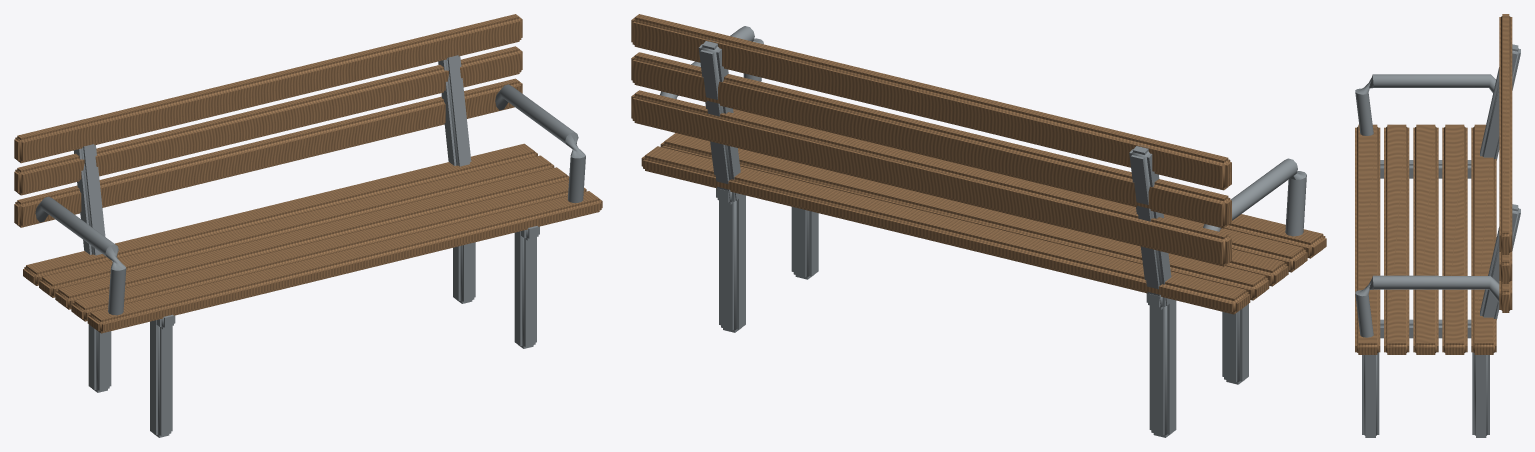
The model's file is PublicBenchBack.glb.
The picture shows the model from 3 angles, left to right: view 1: azimuth 30°, elevation 25°; view 2: azimuth 150°, elevation 25°; view 3: azimuth 270°, elevation 25°; orthographic projection. The views are drawn at different scales.
Visible parts, largest first — view 1: ST_PublicBenchBack_PBK_Indochine_wood.001, ST_PublicBenchBack_PBK_Indochine_metal.001; view 2: ST_PublicBenchBack_PBK_Indochine_wood.001, ST_PublicBenchBack_PBK_Indochine_metal.001; view 3: ST_PublicBenchBack_PBK_Indochine_wood.001, ST_PublicBenchBack_PBK_Indochine_metal.001.
Part boxes in pixels (bbox=[...]): ST_PublicBenchBack_PBK_Indochine_wood.001: bbox=[14, 14, 602, 333]; ST_PublicBenchBack_PBK_Indochine_metal.001: bbox=[35, 30, 585, 437]; ST_PublicBenchBack_PBK_Indochine_wood.001: bbox=[631, 14, 1326, 314]; ST_PublicBenchBack_PBK_Indochine_metal.001: bbox=[660, 26, 1306, 437]; ST_PublicBenchBack_PBK_Indochine_wood.001: bbox=[1355, 14, 1512, 354]; ST_PublicBenchBack_PBK_Indochine_metal.001: bbox=[1355, 44, 1520, 437].
Bounding box in the file's own units: 1.8 × 0.8825 × 0.5705.
2 materials, 1 textured.
